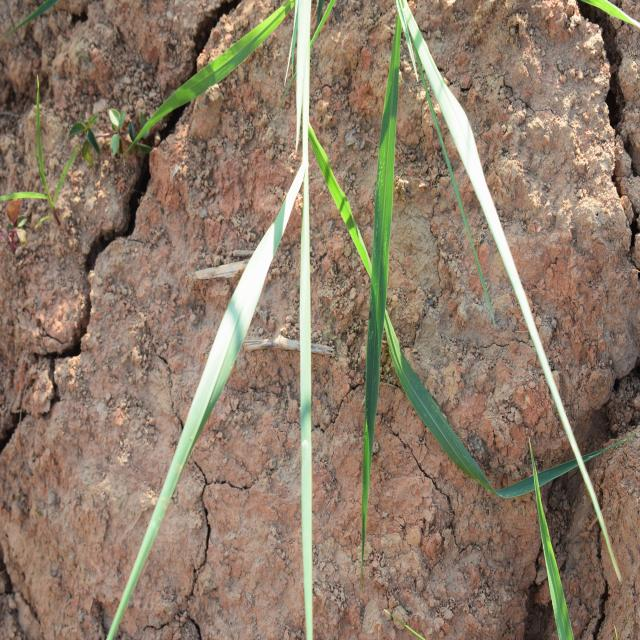green_foxtail: (201, 80, 449, 562)
